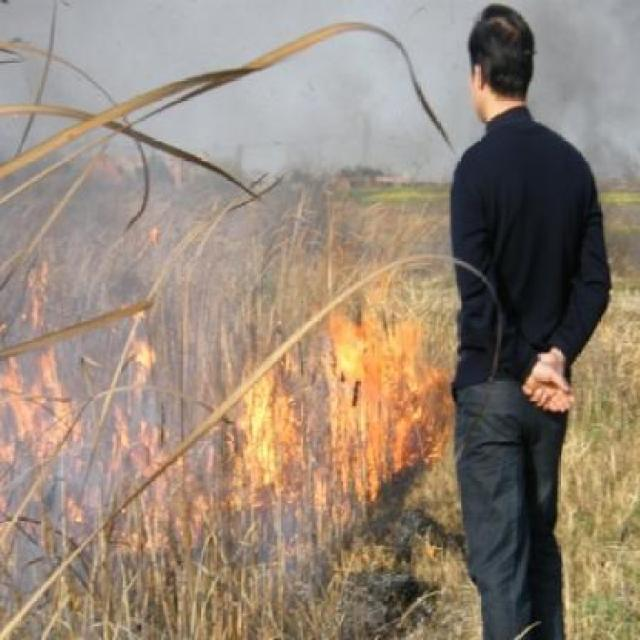Fire: (4, 218, 454, 540)
